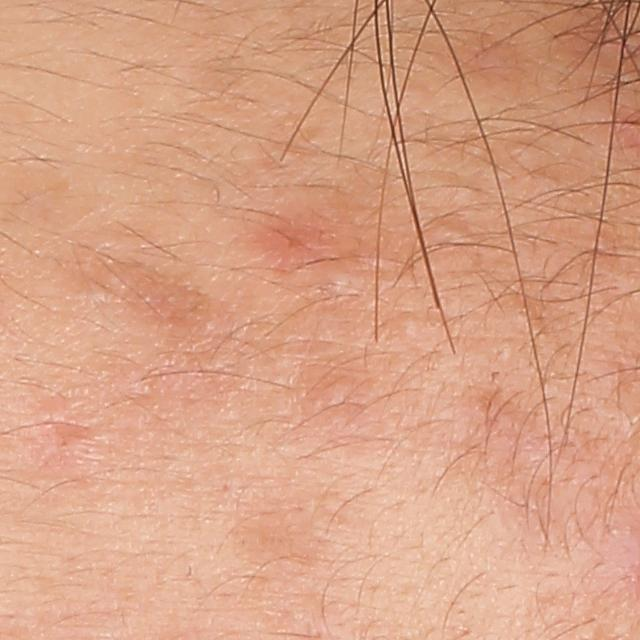comedo: (387, 308, 425, 339)
